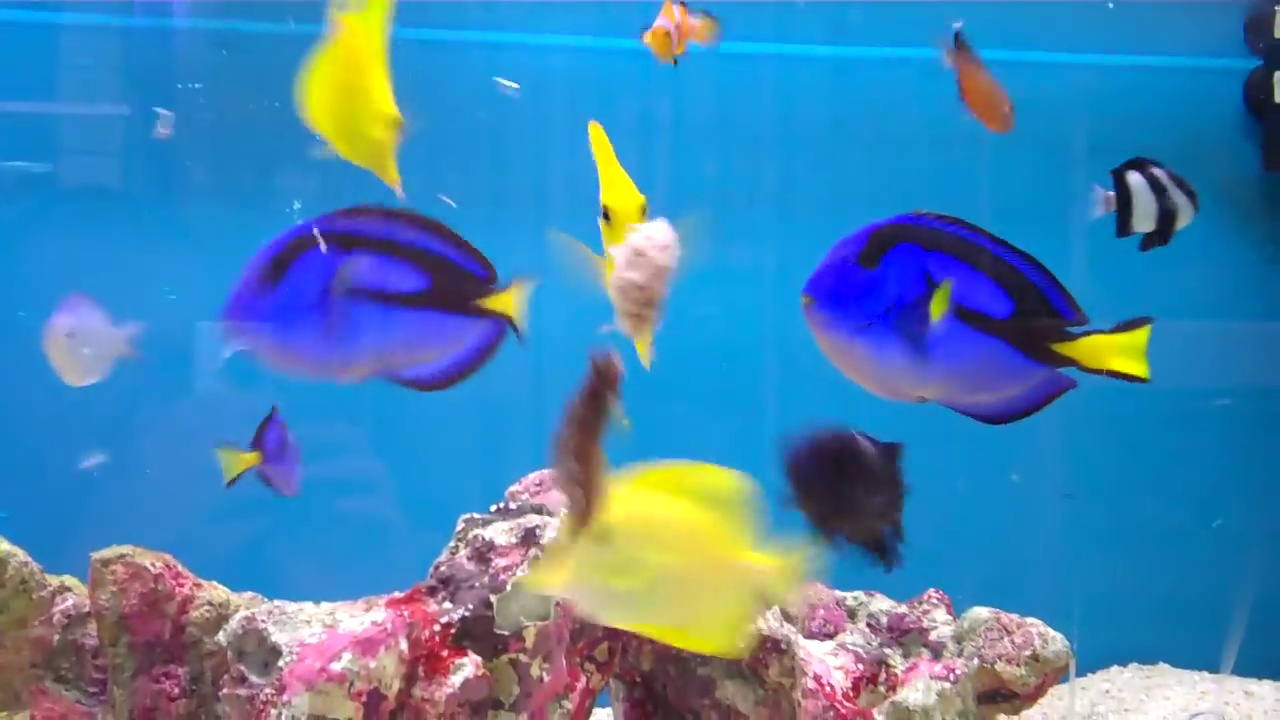blue tang surgeonfish: (798, 198, 1152, 439), (208, 198, 534, 392), (205, 406, 326, 501)
damselfish: (40, 274, 139, 394)
saddle butterfly fish: (508, 434, 819, 671), (293, 0, 420, 191)
